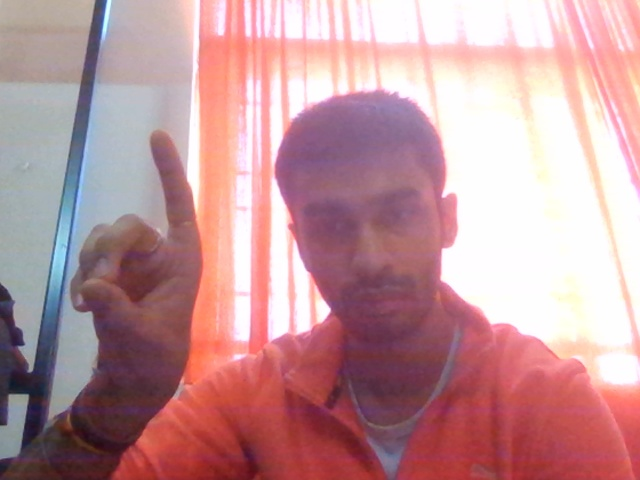D: (59, 127, 228, 421)
